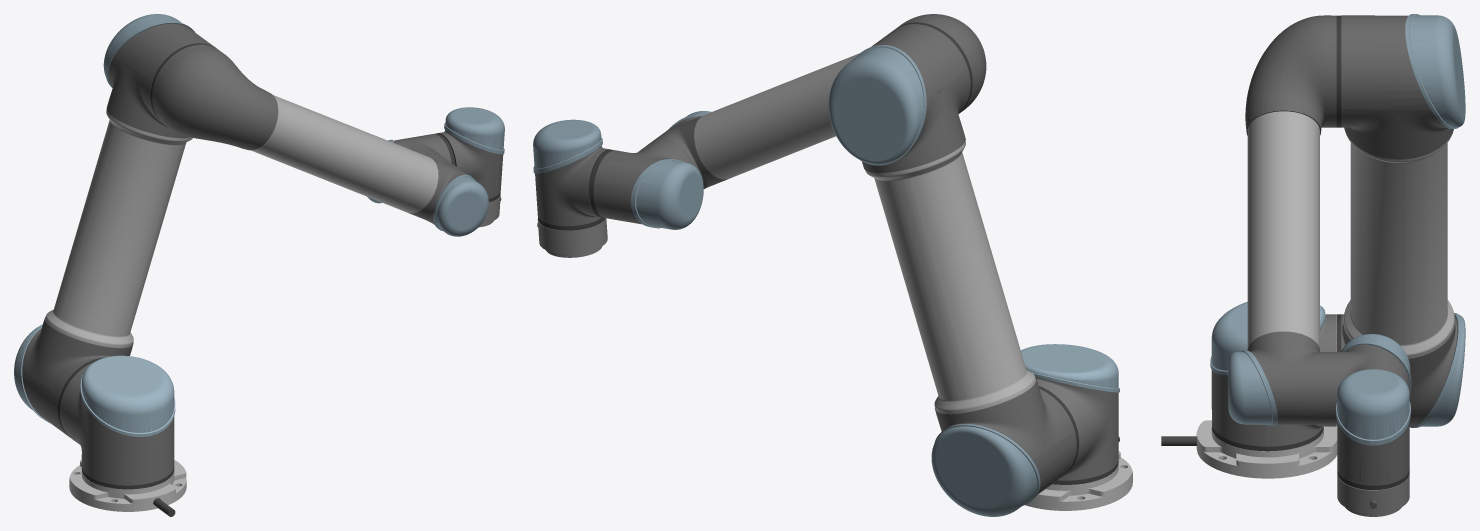
3 renders of one model, left to right at view 1: azimuth 30°, elevation 25°; view 2: azimuth 150°, elevation 25°; view 3: azimuth 270°, elevation 25°, orthographic. The views are drawn at different scales.
Bounding box in the file's own units: 0.6761 × 0.552 × 0.3144.
